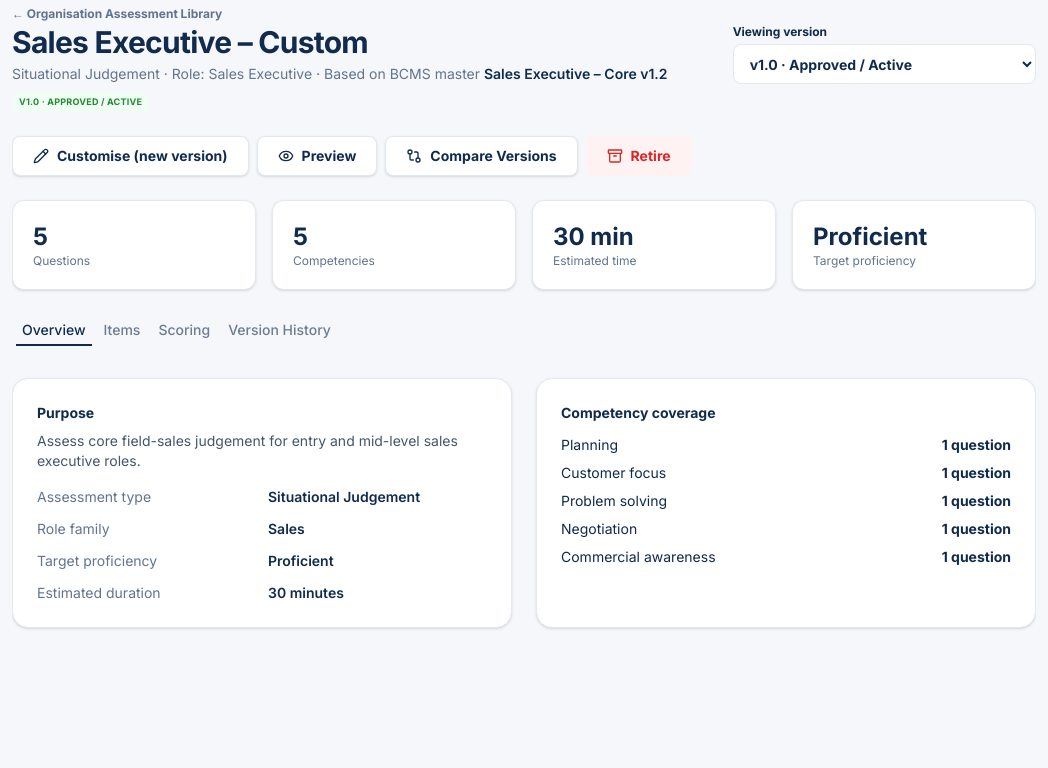
Test: Organisation assessment details › starts a new version of an approved assessment and keeps the approved one in use
Click the button "Customise (new version)" at (130, 156), box [12, 136, 249, 176]
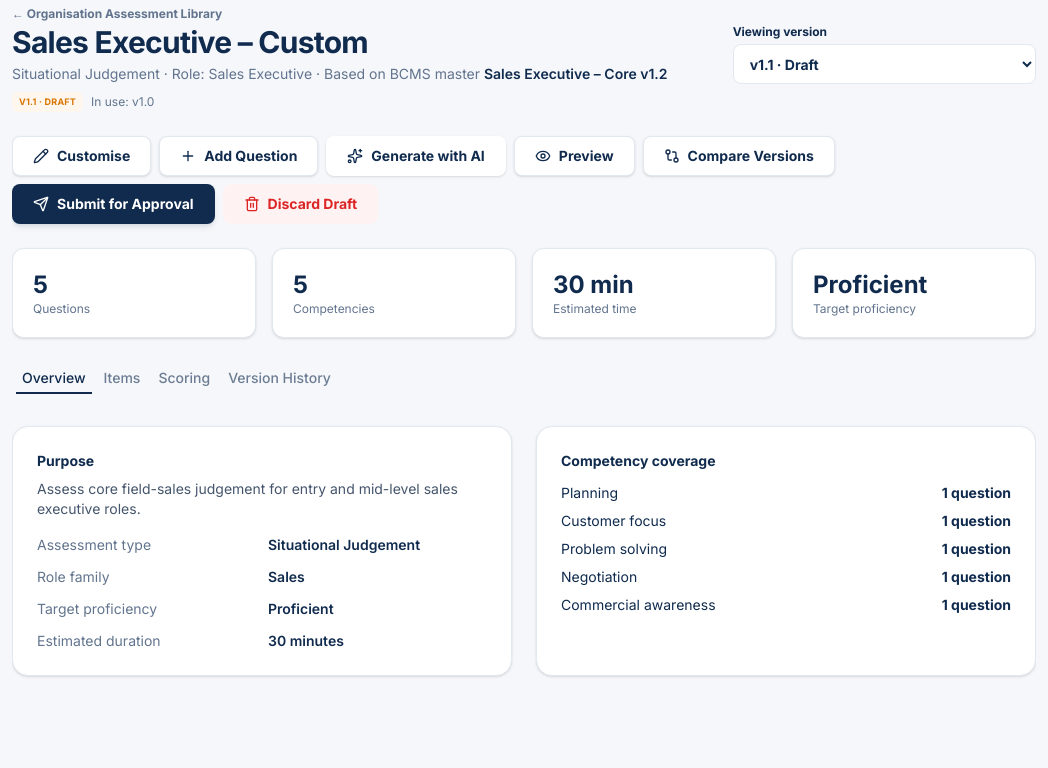
Now the text "In use: v1.0" is shown, box [91, 94, 154, 110]
